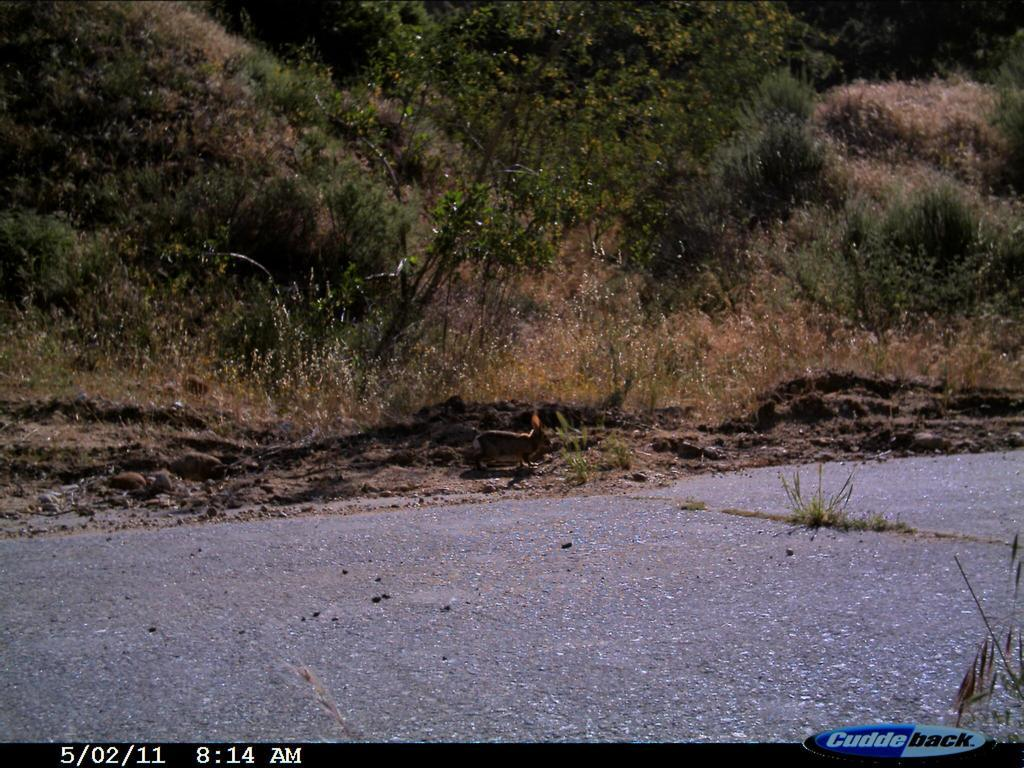rabbit: (460, 413, 560, 484)
